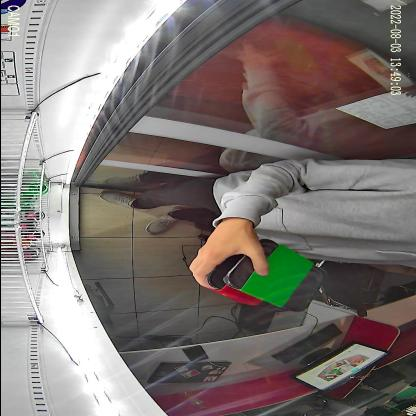green: (223, 240, 327, 313)
red: (206, 250, 283, 312)
